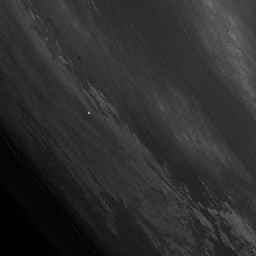Target: (86, 111, 92, 116)
